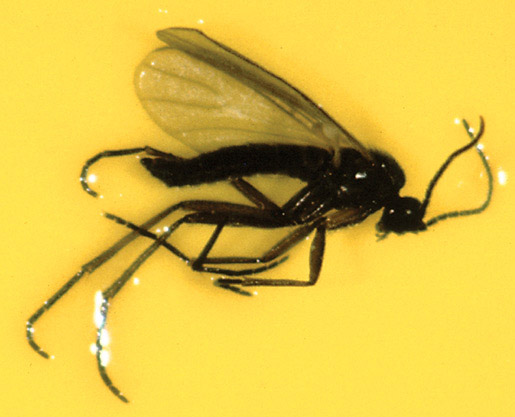Fruit fly: (88, 26, 446, 317)
